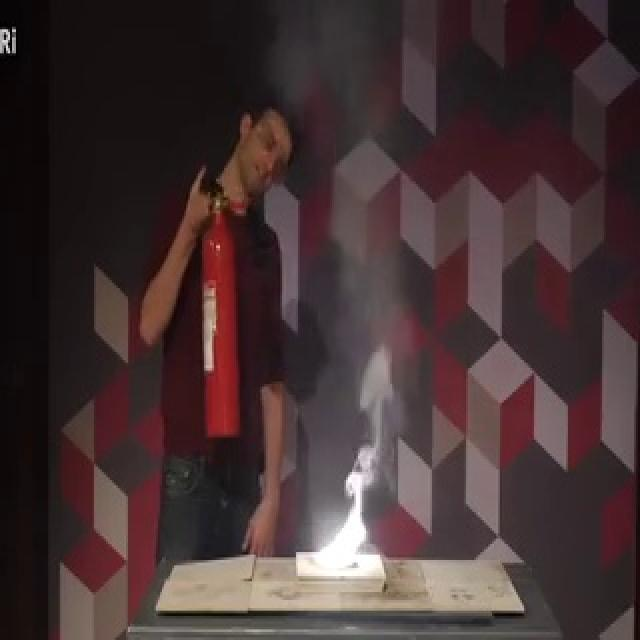fire: (303, 448, 391, 579)
